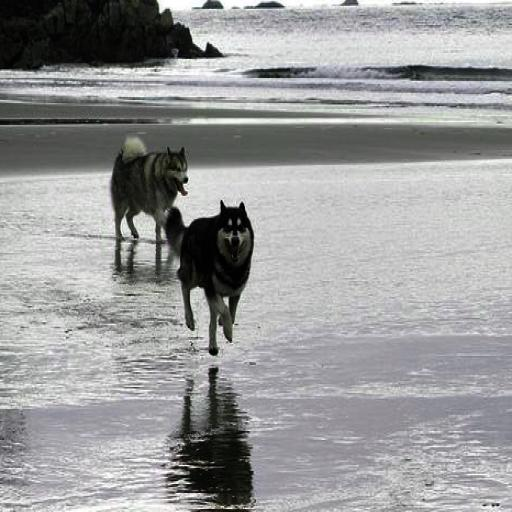dog_face: (217, 198, 254, 268), (165, 143, 192, 197)
